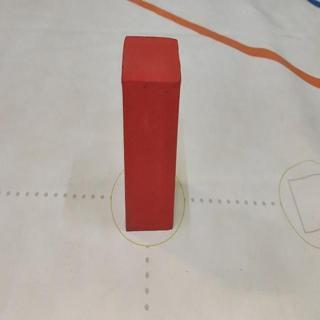redbox: (121, 37, 176, 233)
